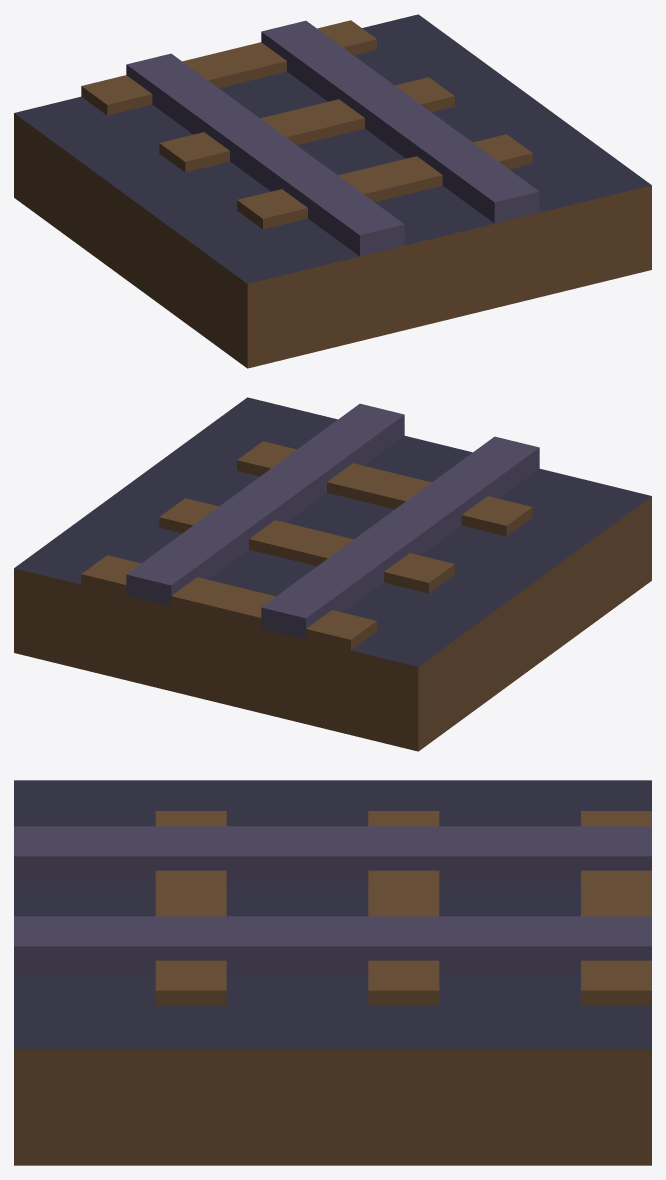
Rendered from rail_main.fbx.
3 renders of one model, top to bottom at view 1: azimuth 30°, elevation 25°; view 2: azimuth 150°, elevation 25°; view 3: azimuth 270°, elevation 25°, orthographic. The views are drawn at different scales.
Parts seen in each view (by area): view 1: Cube.087; view 2: Cube.087; view 3: Cube.087.
Boxes of the visible parts, <box> form: Cube.087: <box>14,14,651,368</box>; Cube.087: <box>14,397,651,751</box>; Cube.087: <box>14,780,651,1165</box>.
Size of the model in its own units: 1000 by 250 by 1000.
Materials: 1 (1 with a texture image).
